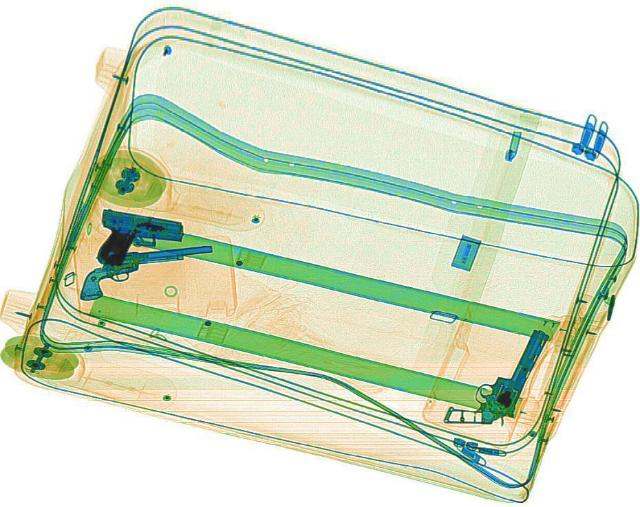Gun: (442, 319, 562, 438), (65, 230, 221, 301), (87, 207, 185, 272)
